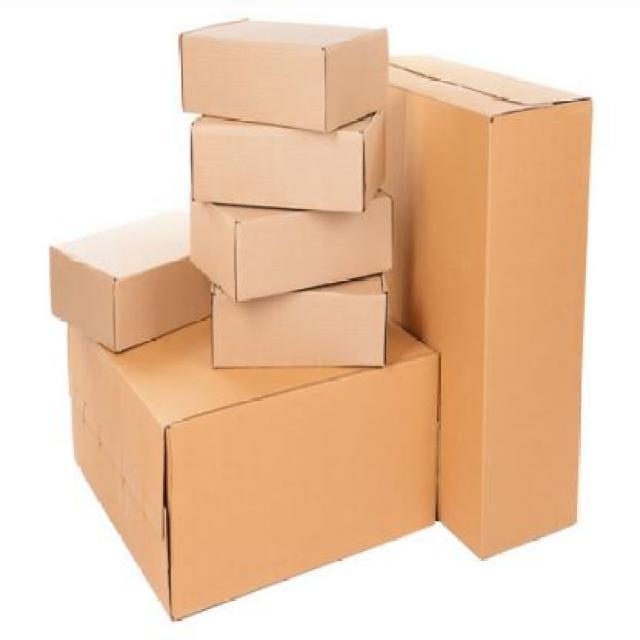box: (65, 320, 439, 624), (382, 56, 595, 559), (45, 207, 216, 356), (177, 12, 395, 126), (183, 193, 397, 299), (189, 109, 381, 210), (204, 267, 393, 367)
